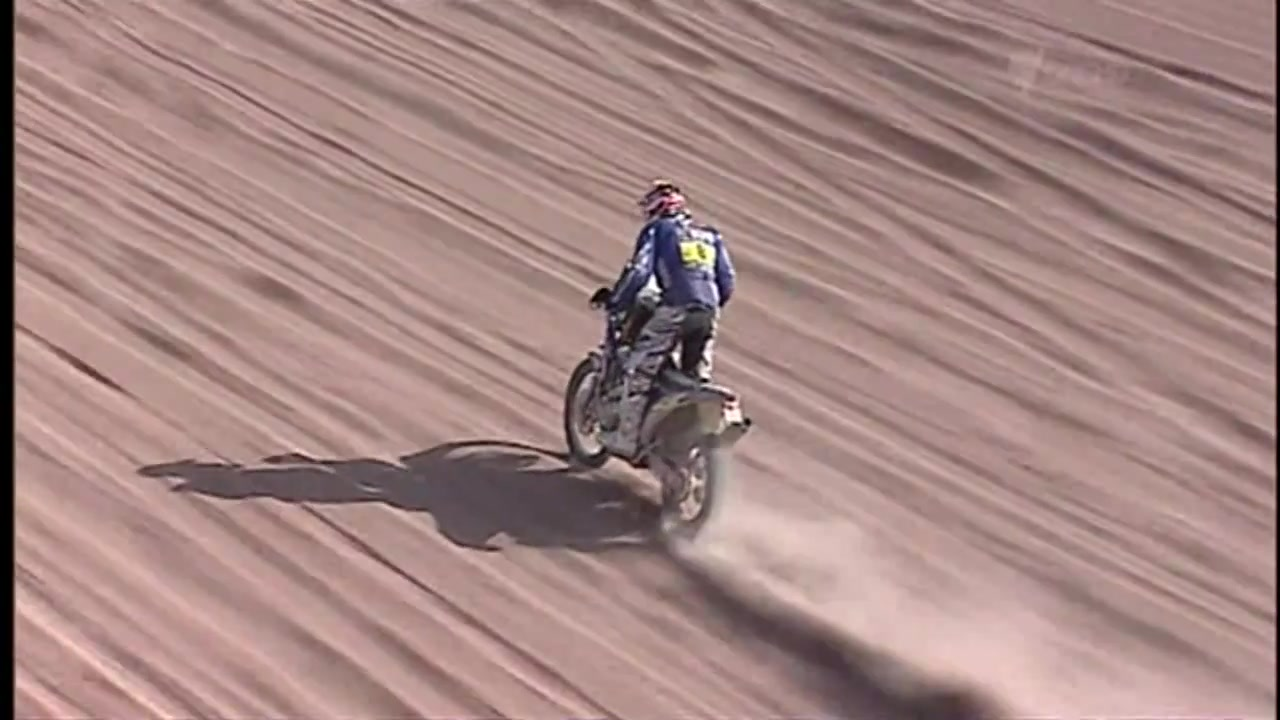motorbike: (562, 265, 755, 535)
